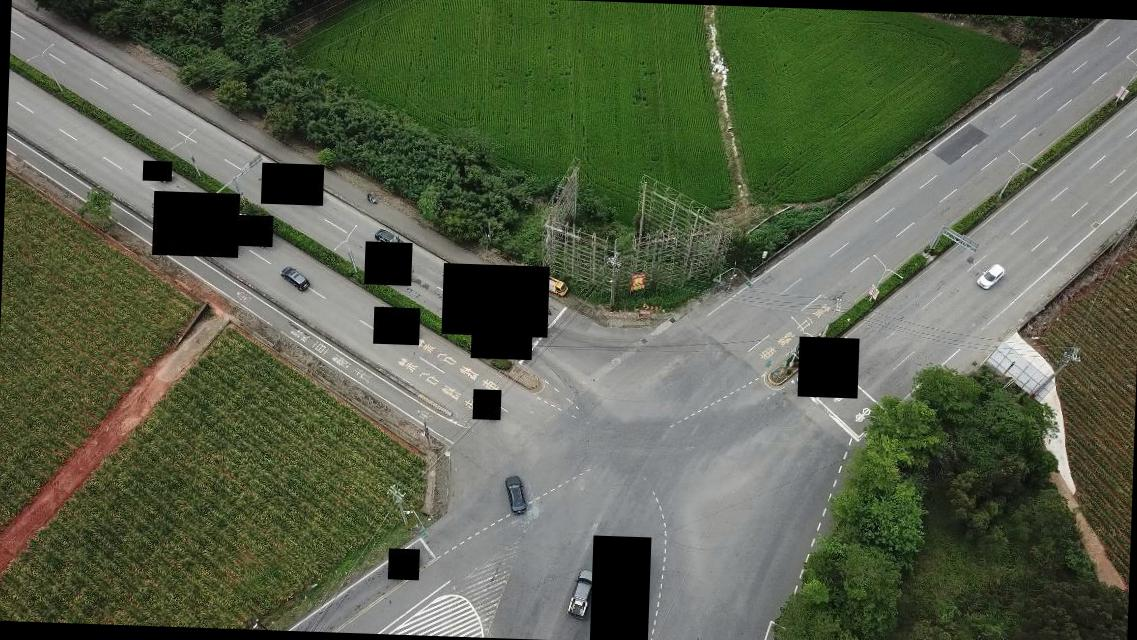vehicle: (566, 566, 599, 623), (502, 471, 530, 514), (373, 224, 406, 253), (277, 263, 311, 291), (975, 264, 1006, 292), (542, 276, 568, 295)
